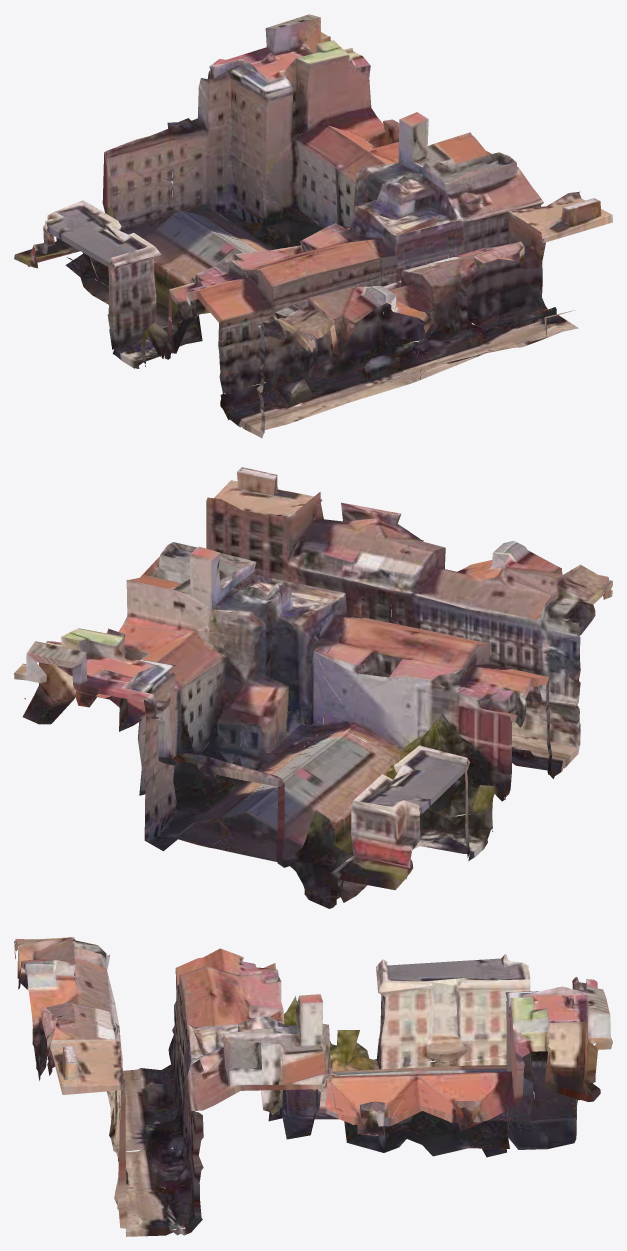
3 renders of one model, top to bottom at view 1: azimuth 30°, elevation 25°; view 2: azimuth 150°, elevation 25°; view 3: azimuth 270°, elevation 25°, orthographic. The views are drawn at different scales.
Visible parts, largest first — view 1: Mesh_0; view 2: Mesh_0; view 3: Mesh_0.
Boxes of the visible parts, box(x1,y1,x2,y2) form: Mesh_0: box(14, 14, 612, 438); Mesh_0: box(14, 467, 612, 908); Mesh_0: box(14, 937, 612, 1236).
Size of the model in its own units: 66.54 by 33.65 by 82.51.
2 materials, 2 textured.
